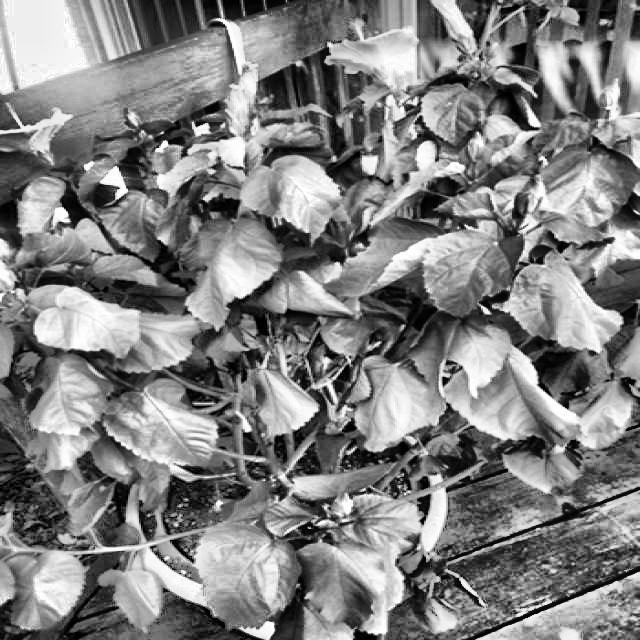plants: (0, 162, 638, 490)
